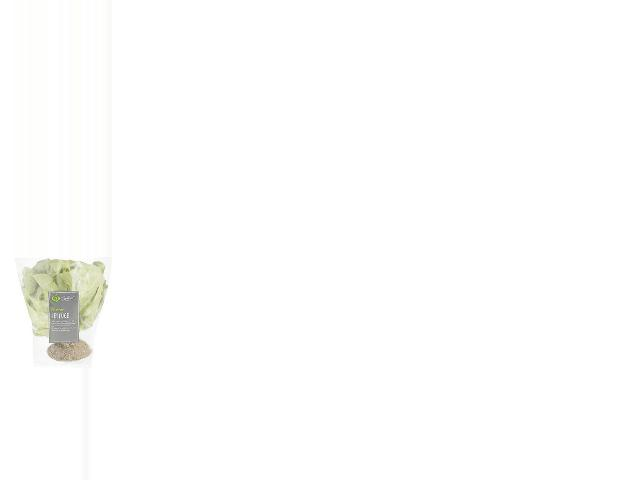lettuce: (17, 257, 111, 368)
